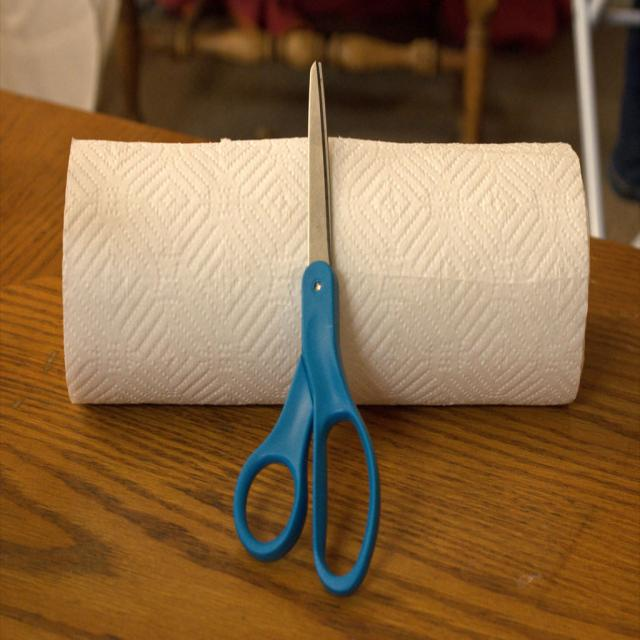scissors: (232, 58, 380, 596)
